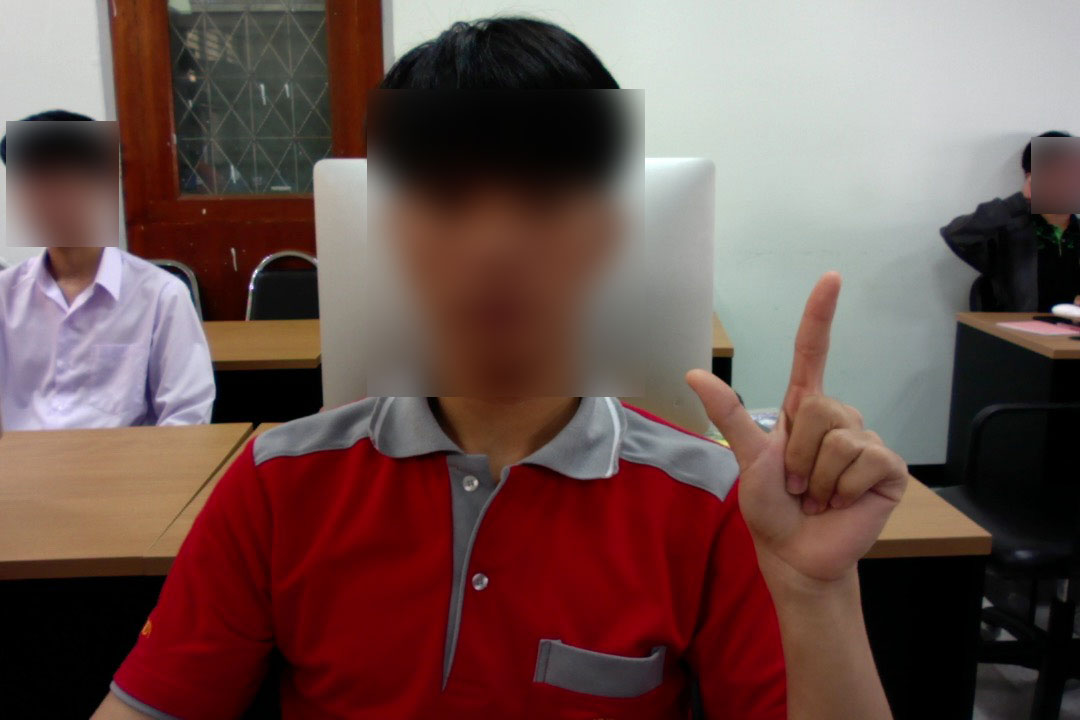lor: (674, 250, 934, 589)
